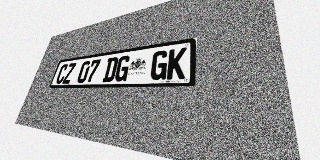0: (76, 60, 91, 83)
7: (85, 59, 101, 83)
C: (55, 64, 69, 84)
D: (102, 57, 119, 82)
G: (149, 50, 169, 80), (114, 55, 131, 82)
K: (166, 47, 187, 80)
Z: (62, 63, 76, 84)
